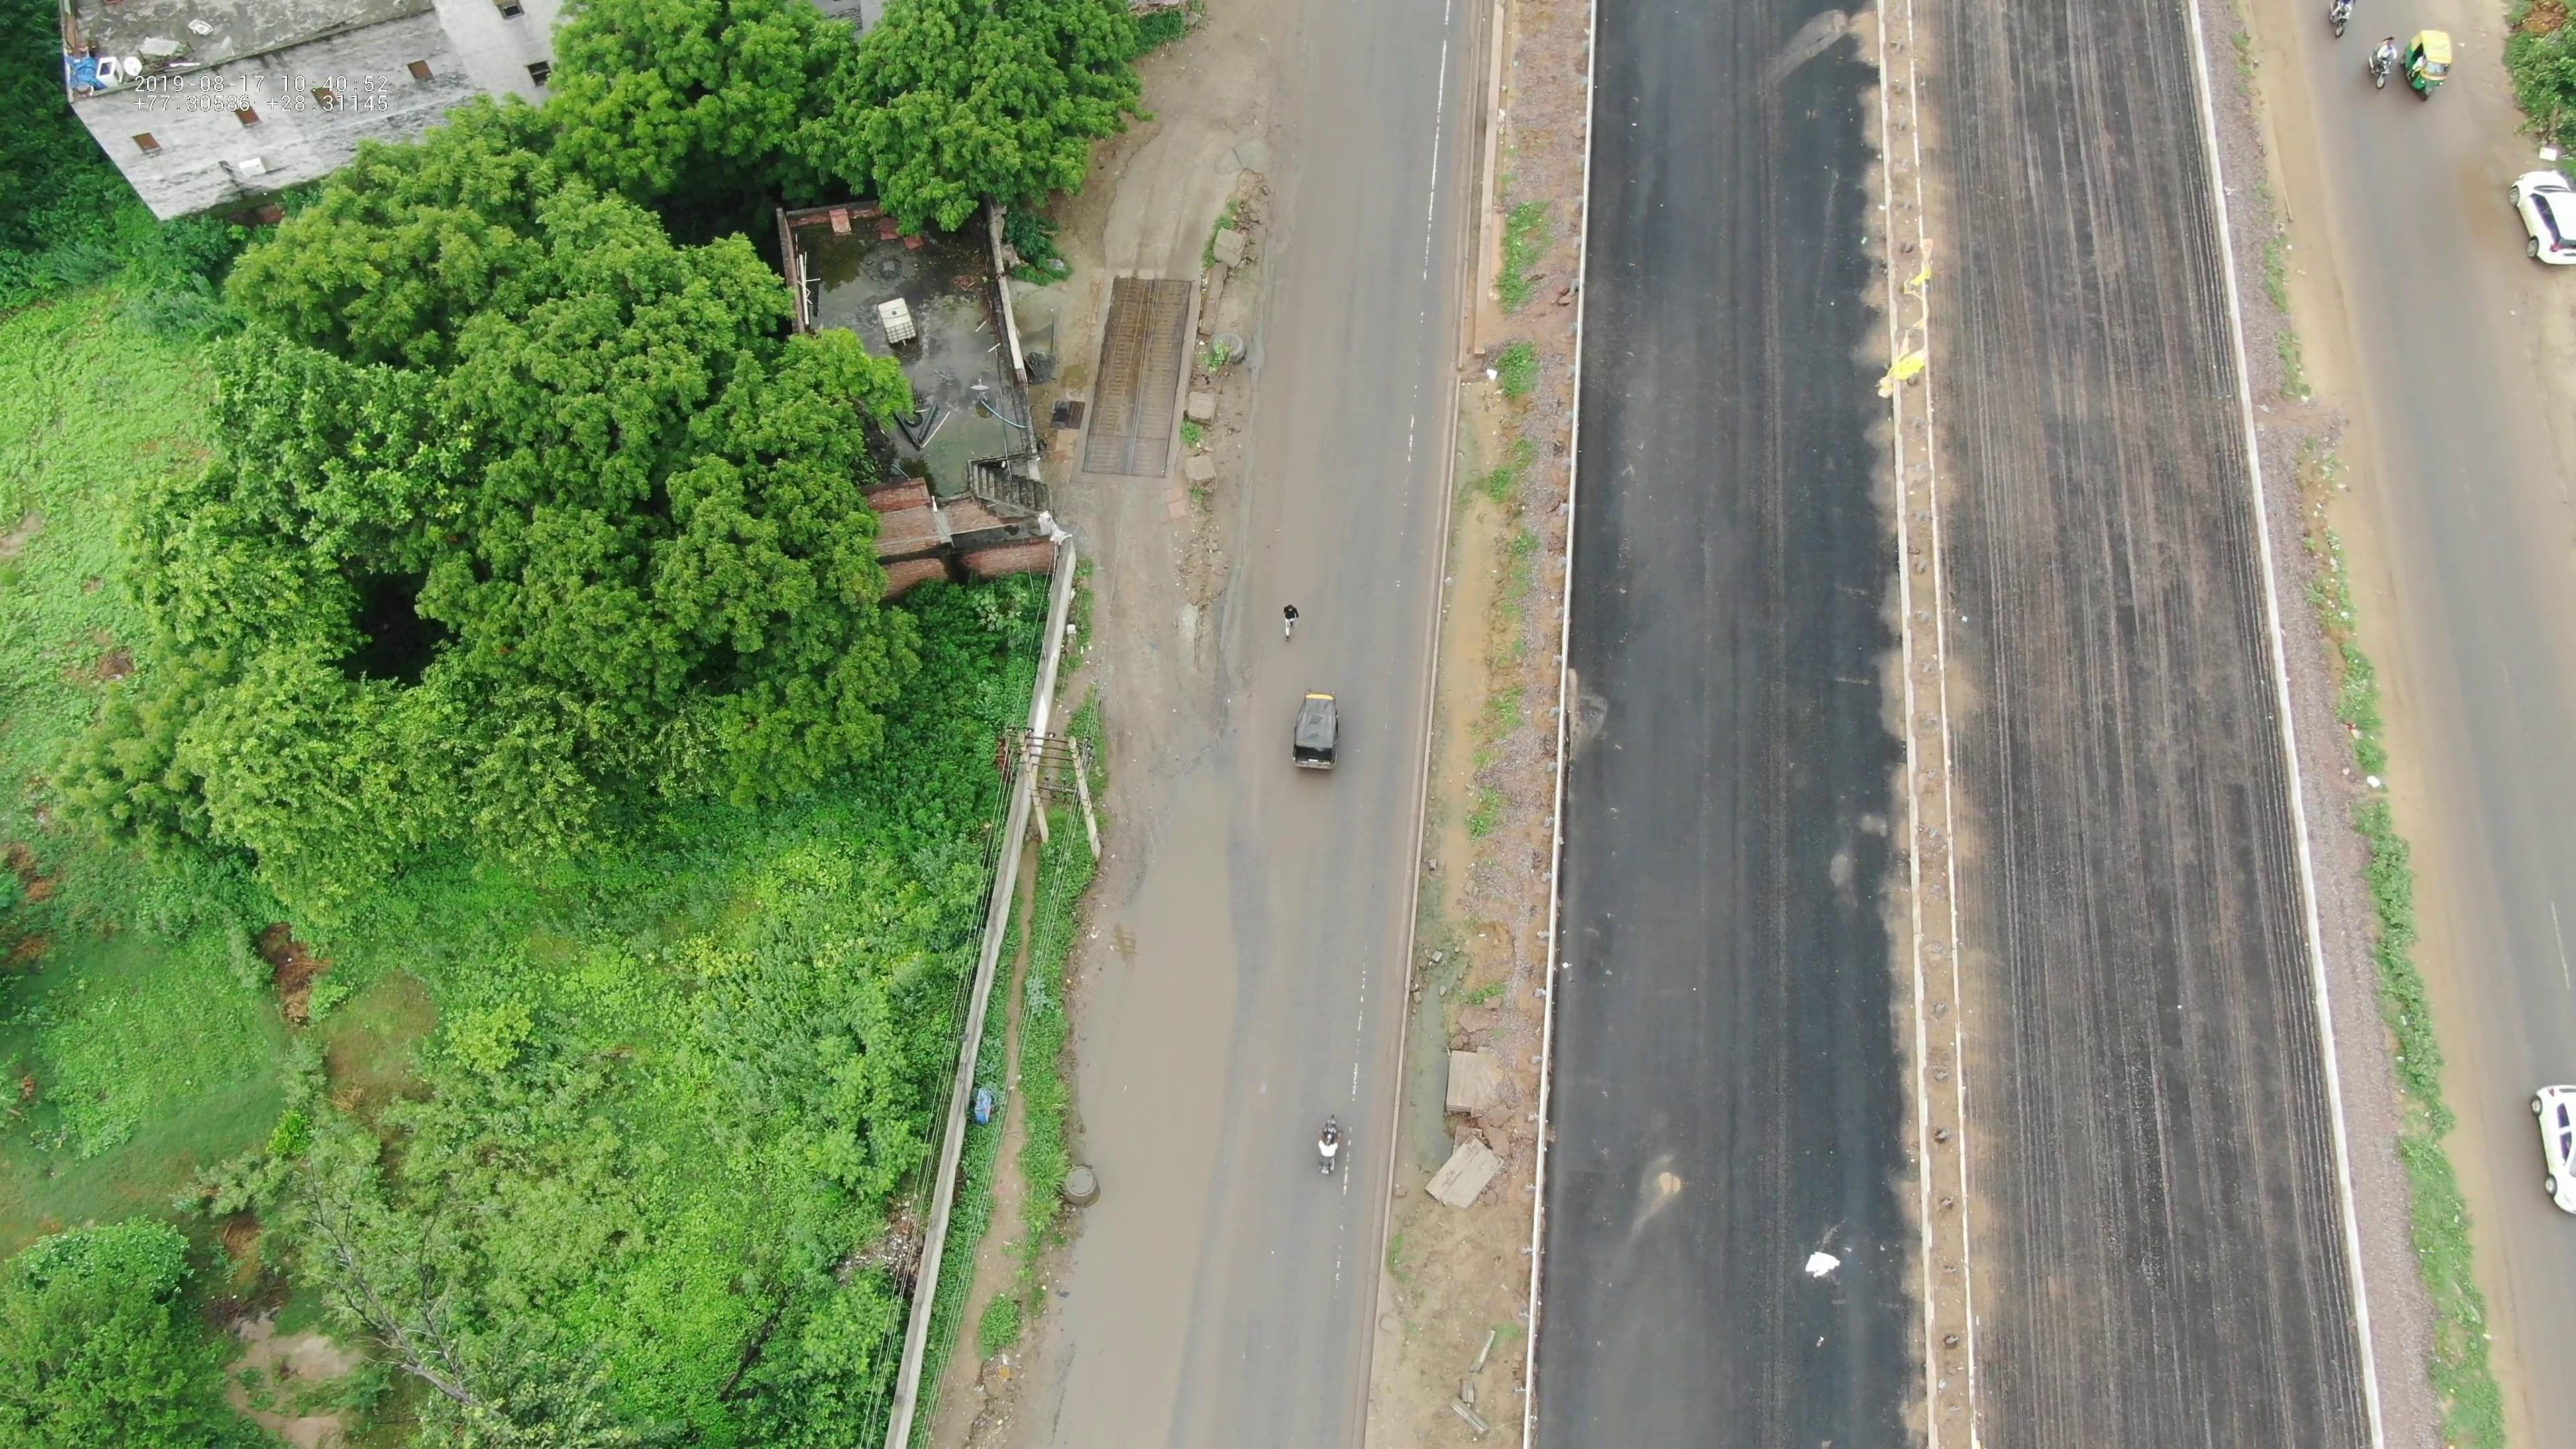Waterlogging: (987, 775, 1254, 1426)
